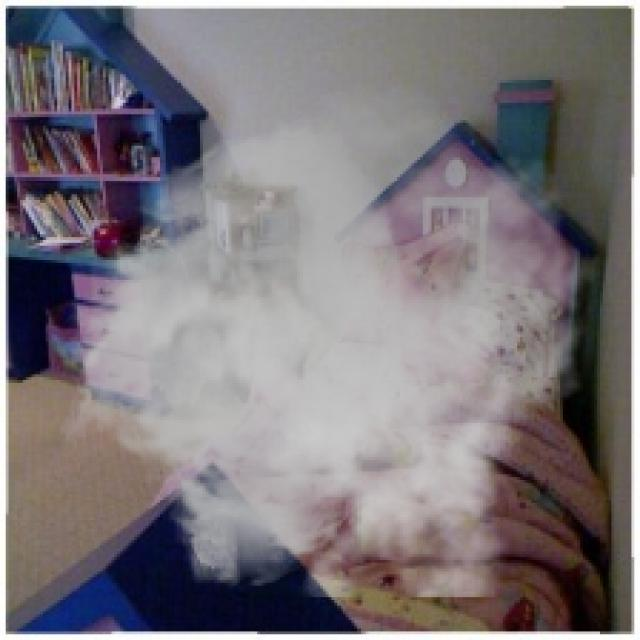smoke: (57, 80, 600, 597)
